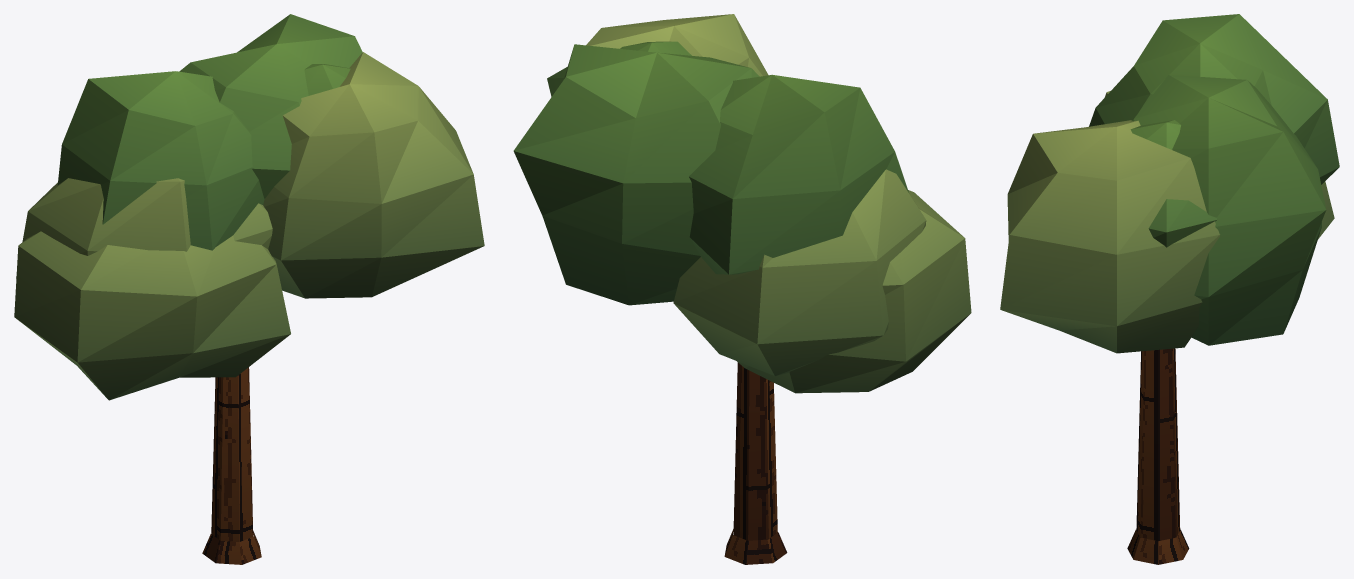
File: oak_1_lowpoly.glb
The picture shows the model from 3 angles, left to right: view 1: azimuth 30°, elevation 25°; view 2: azimuth 150°, elevation 25°; view 3: azimuth 270°, elevation 25°; orthographic projection. The views are drawn at different scales.
Visible parts, largest first — view 1: oak_1_lowpoly; view 2: oak_1_lowpoly; view 3: oak_1_lowpoly.
Boxes of the visible parts, x1,y1,x2,y2 form: oak_1_lowpoly: [14, 14, 484, 564]; oak_1_lowpoly: [513, 14, 971, 564]; oak_1_lowpoly: [1000, 14, 1339, 564].
Bounding box in the file's own units: 5.31 × 6.12 × 3.85.
2 materials, 1 textured.
